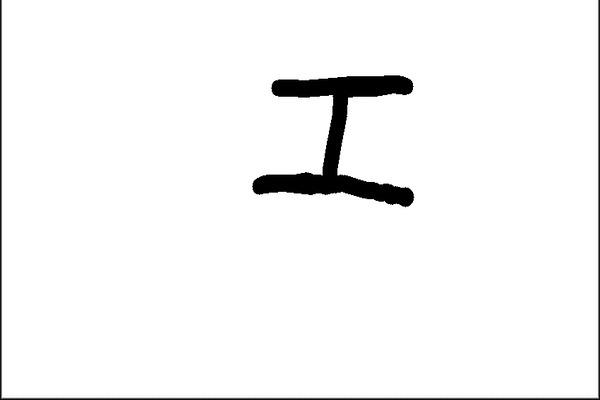i: (245, 58, 435, 216)
